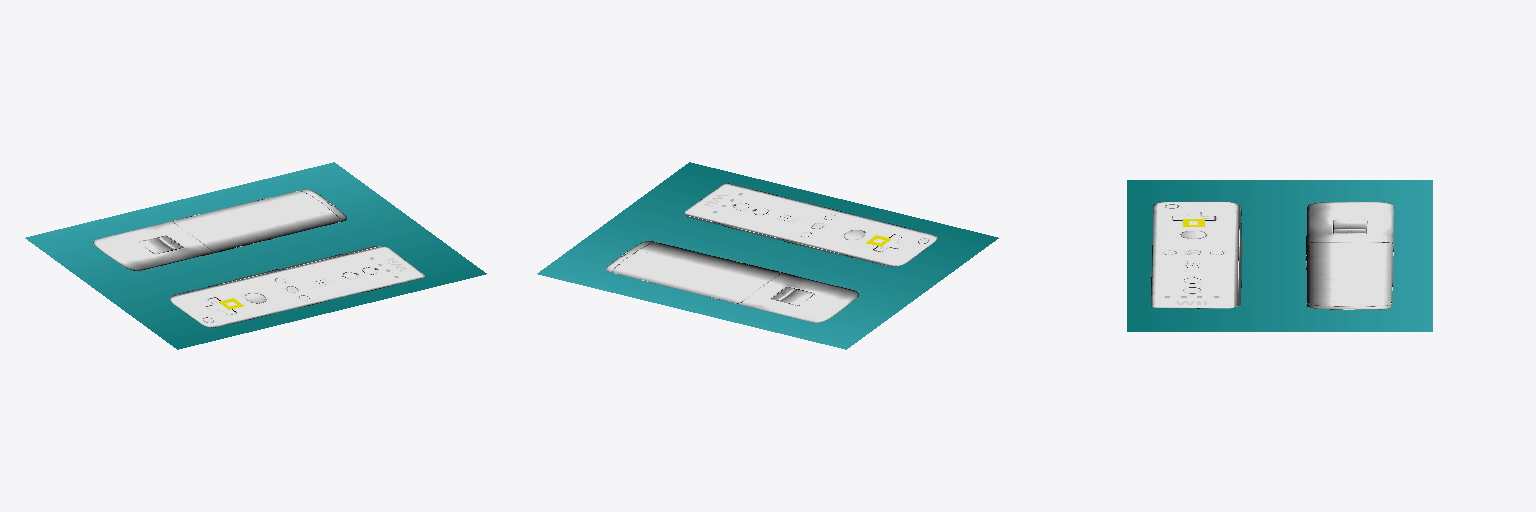
The picture shows the model from 3 angles: view 1: azimuth 30°, elevation 25°; view 2: azimuth 150°, elevation 25°; view 3: azimuth 270°, elevation 25°; orthographic projection.
Visible parts, largest first — view 1: Plane002; view 2: Plane002; view 3: Plane002.
Part boxes in pixels (x1,y1,x2,y2): Plane002: (25, 162, 486, 349); Plane002: (537, 162, 998, 349); Plane002: (1127, 180, 1432, 331).
Size of the model in its own units: 94.59 by 0 by 80.88.
Materials: 1 (1 with a texture image).